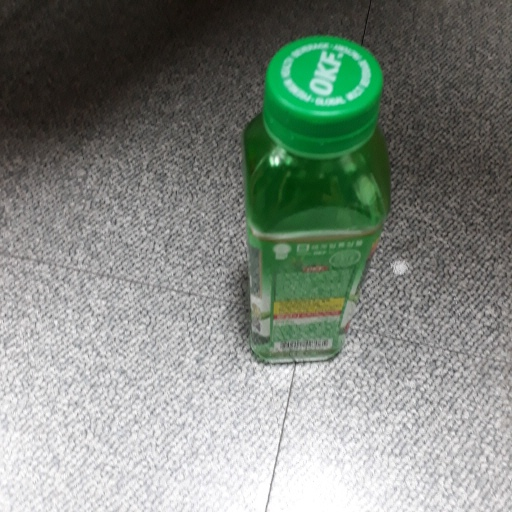Plastic_0: (240, 37, 390, 366)
